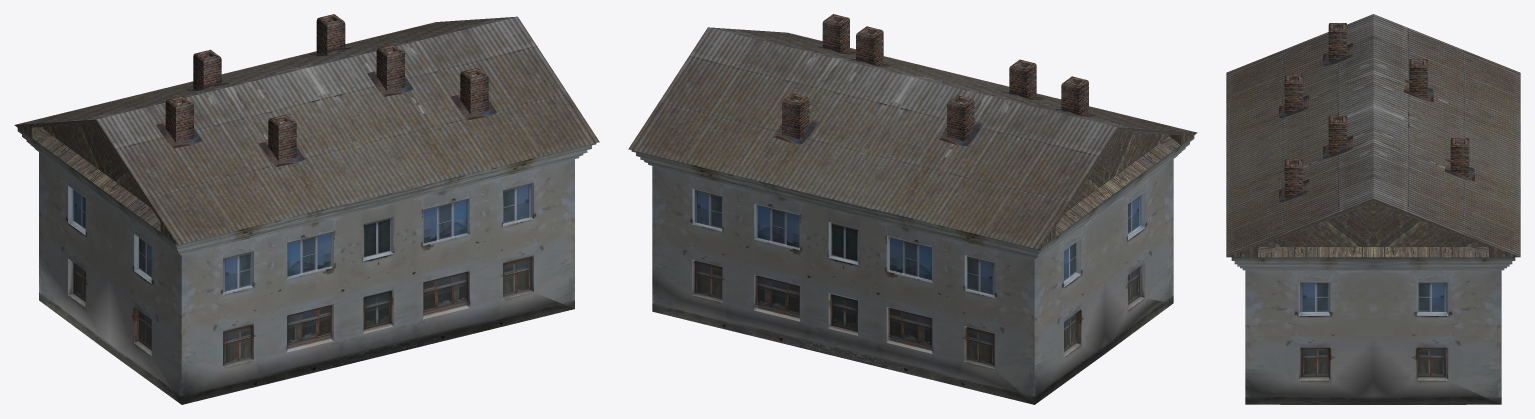
The model's file is building_17.fbx.
The picture shows the model from 3 angles, left to right: view 1: azimuth 30°, elevation 25°; view 2: azimuth 150°, elevation 25°; view 3: azimuth 270°, elevation 25°; orthographic projection. The views are drawn at different scales.
Visible parts, largest first — view 1: Дом2.001; view 2: Дом2.001; view 3: Дом2.001.
Part boxes in pixels (box(x1,y1,x2,y2)): Дом2.001: box(14, 14, 599, 404); Дом2.001: box(628, 14, 1197, 404); Дом2.001: box(1226, 14, 1520, 404).
Size of the model in its own units: 1675 by 963 by 1128.
